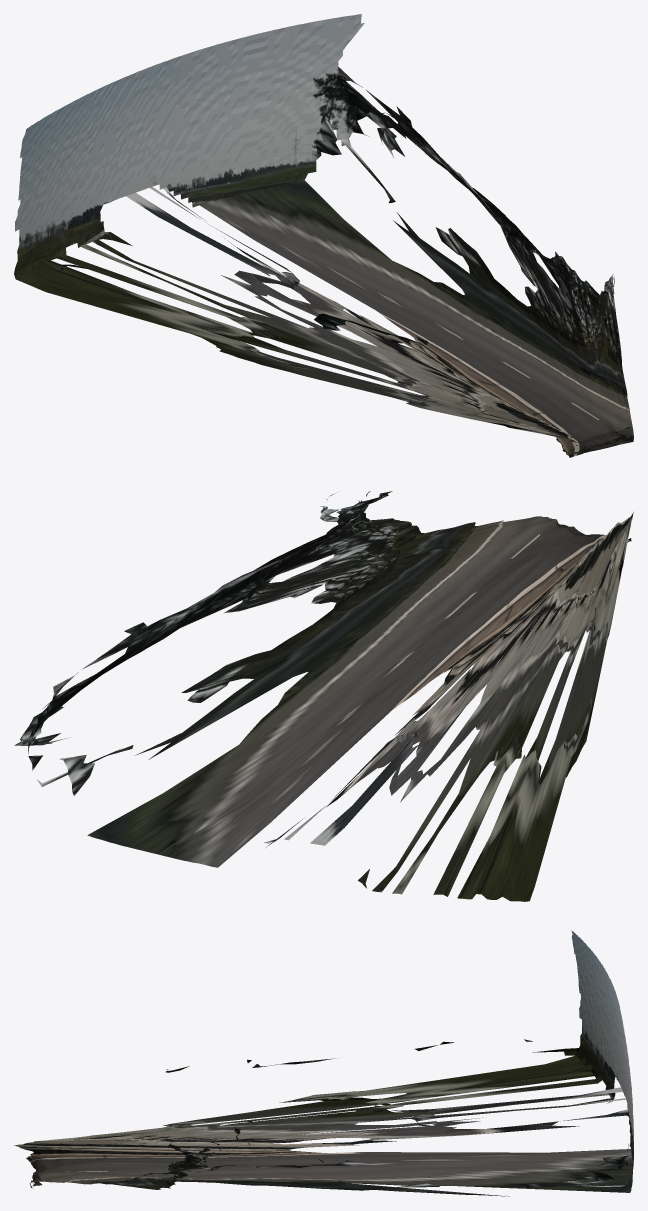
3 views of the same model, one above another, from view 1: azimuth 30°, elevation 25°; view 2: azimuth 150°, elevation 25°; view 3: azimuth 270°, elevation 25° (orthographic). The views are drawn at different scales.
Parts seen in each view (by area): view 1: defaultobject; view 2: defaultobject; view 3: defaultobject.
Part boxes in pixels (x1,y1,x2,y2): defaultobject: (14,14,633,457); defaultobject: (14,491,633,901); defaultobject: (14,930,633,1196).
Bounding box in the file's own units: 28.37 × 11.78 × 45.44.
1 material, 1 textured.
